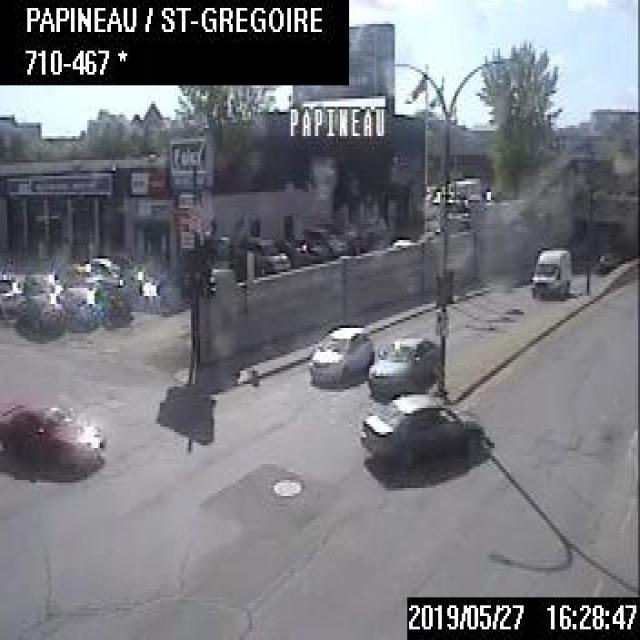vehicle: (356, 385, 482, 469), (0, 398, 105, 473), (304, 320, 374, 390), (362, 329, 438, 388), (527, 243, 571, 296), (237, 231, 290, 273), (14, 292, 62, 335), (57, 283, 99, 325), (300, 222, 346, 257), (96, 286, 132, 326)
